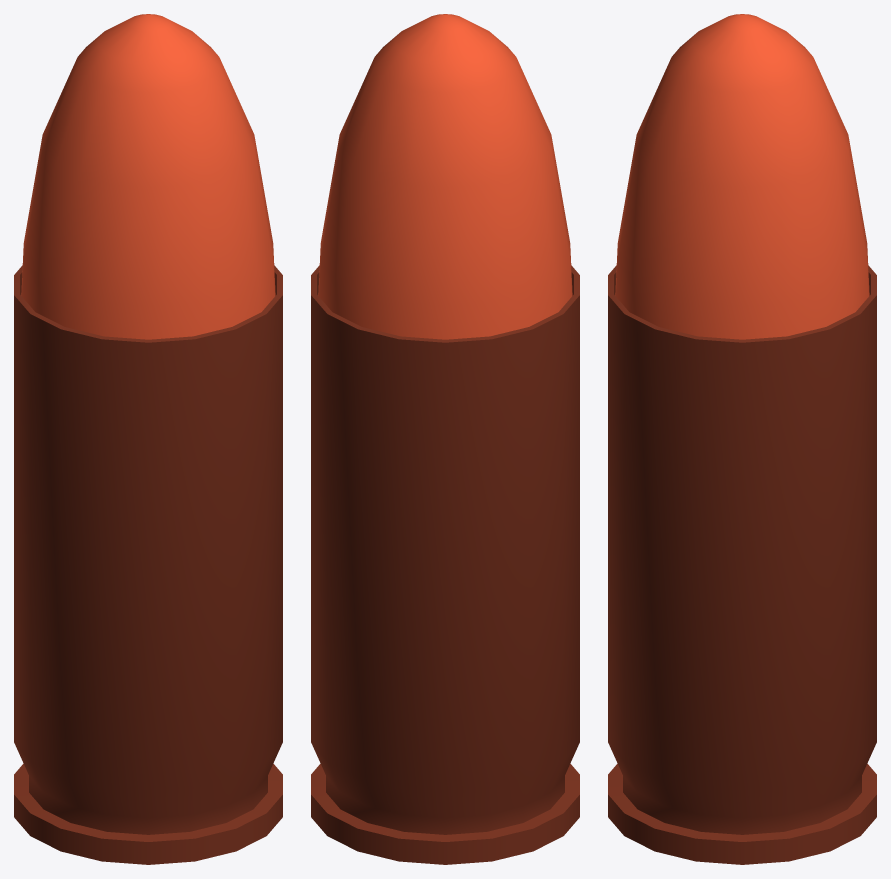
The picture shows the model from 3 angles, left to right: view 1: azimuth 30°, elevation 25°; view 2: azimuth 150°, elevation 25°; view 3: azimuth 270°, elevation 25°; orthographic projection.
Visible parts, largest first — view 1: Cylinder001, Cylinder002; view 2: Cylinder001, Cylinder002; view 3: Cylinder001, Cylinder002.
Part boxes in pixels (left/top/right/bottom): Cylinder001: left=14, top=265, right=282, bottom=864; Cylinder002: left=21, top=14, right=275, bottom=339; Cylinder001: left=311, top=265, right=579, bottom=864; Cylinder002: left=318, top=14, right=572, bottom=339; Cylinder001: left=608, top=265, right=876, bottom=864; Cylinder002: left=615, top=14, right=869, bottom=339.
Bounding box in the file's own units: 0.6241 × 2 × 0.6146.
